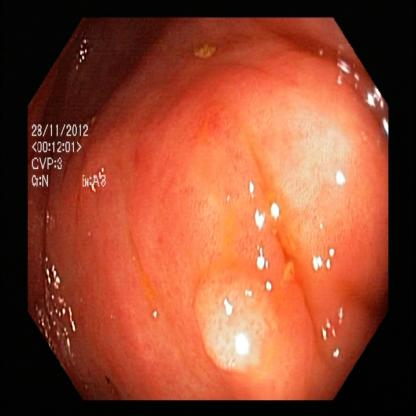Labels: (27, 111, 113, 194)
Polyps: (276, 100, 389, 311), (192, 268, 296, 384)
